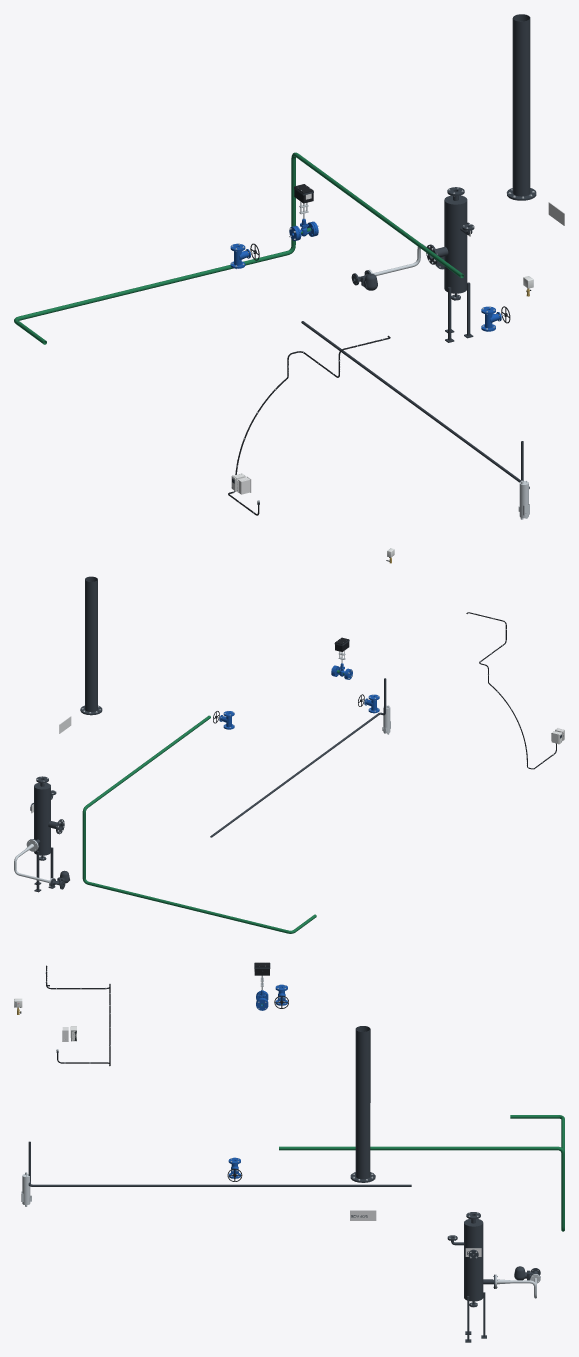
The picture shows the model from 3 angles, top to bottom: view 1: azimuth 30°, elevation 25°; view 2: azimuth 150°, elevation 25°; view 3: azimuth 270°, elevation 25°; orthographic projection. The views are drawn at different scales.
Parts seen in each view (by area): view 1: bdv_vent / dark, separator_fv8 / dark, to_economizer / green, tds_common / dark, wiring_lcs600 / black; view 2: bdv_vent / dark, to_economizer / green, separator_fv8 / dark, tds_common / dark; view 3: bdv_vent / dark, separator_fv8 / dark, to_economizer / green, tds_common / dark.
Boxes of the visible parts, left/top/right/bottom form: bdv_vent / dark: left=506, top=14, right=536, bottom=200; separator_fv8 / dark: left=426, top=187, right=474, bottom=342; to_economizer / green: left=14, top=152, right=464, bottom=344; tds_common / dark: left=301, top=321, right=529, bottom=488; wiring_lcs600 / black: left=228, top=335, right=390, bottom=515; bdv_vent / dark: left=80, top=576, right=102, bottom=715; to_economizer / green: left=82, top=715, right=316, bottom=933; separator_fv8 / dark: left=30, top=776, right=64, bottom=892; tds_common / dark: left=210, top=678, right=386, bottom=837; bdv_vent / dark: left=350, top=1026, right=375, bottom=1182; separator_fv8 / dark: left=447, top=1212, right=495, bottom=1342; to_economizer / green: left=279, top=1115, right=564, bottom=1231; tds_common / dark: left=28, top=1141, right=411, bottom=1186.
Bounding box in the file's own units: 5.45 × 3.85 × 6.23.
